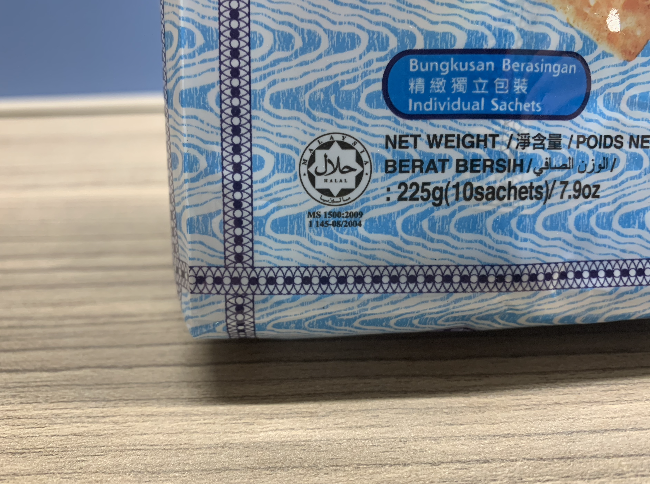halal: (308, 141, 362, 198)
